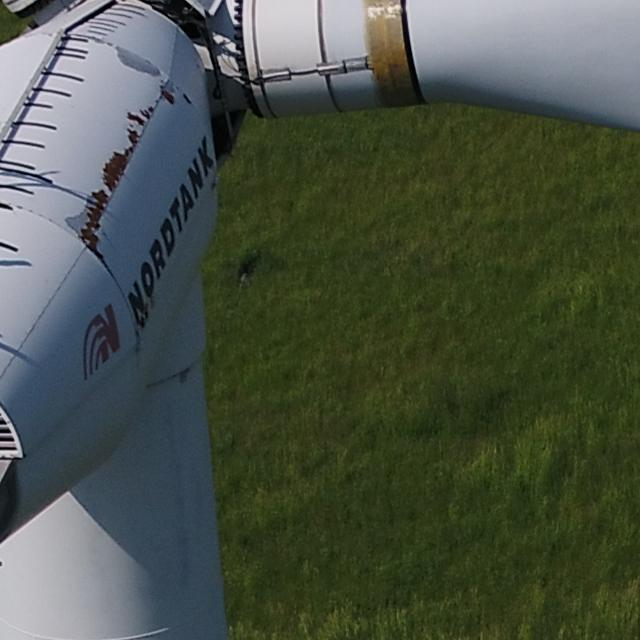damage: (75, 187, 114, 250), (87, 245, 130, 295), (99, 142, 137, 197), (112, 40, 164, 79), (159, 81, 177, 111), (120, 125, 144, 146), (122, 108, 148, 126), (138, 103, 156, 121), (177, 90, 195, 106)
